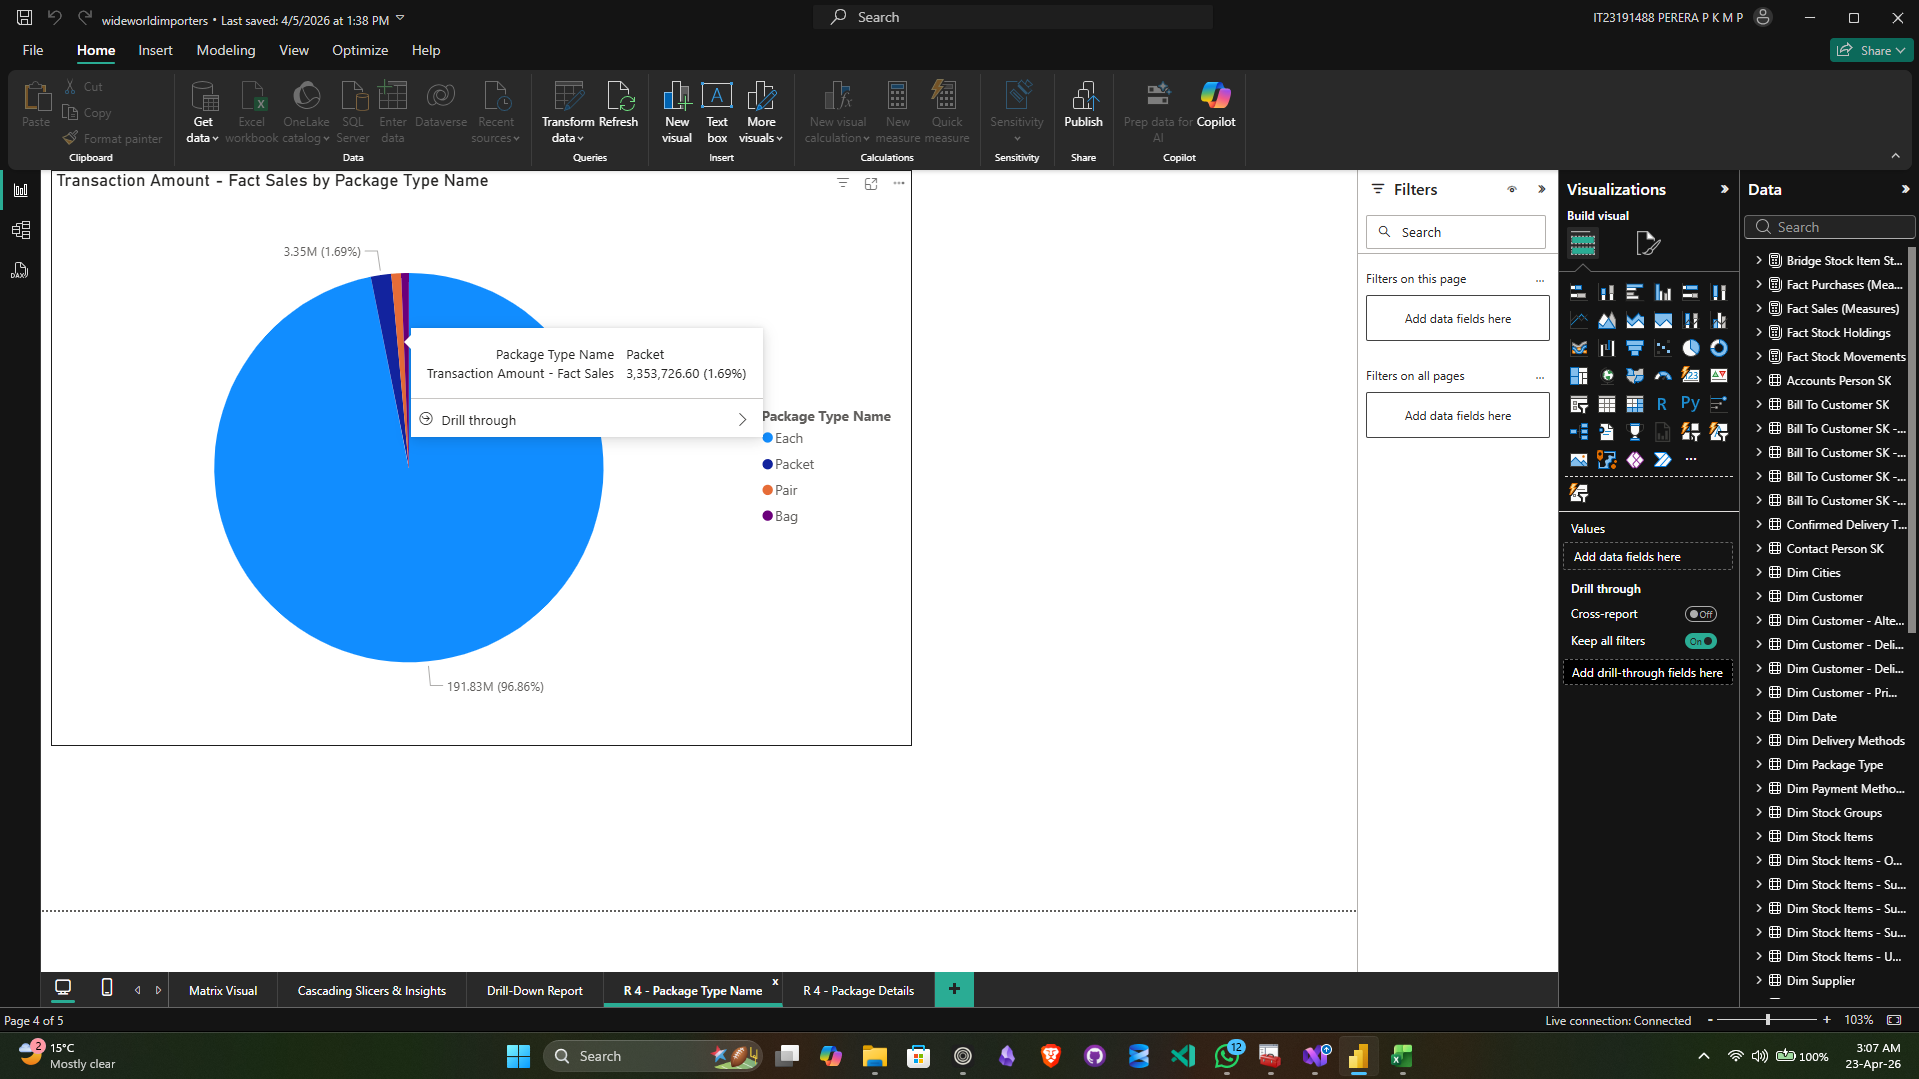

The page's visual inventory and layout, read from the dashboard file:
{"tool":"powerbi","page":{"name":"R 4 - Package Type Name","canvas":[1280,720],"ordinal":3},"visuals":[{"type":"pieChart","fields":{"Y":["Fact Sales (Measures).Transaction Amount - Fact Sales"],"Category":["Dim Package Type.Package Type Name"]},"box":[10,0,837.1,560],"z":0}]}

Visuals, with their boxes on the page's 1280x720 design canvas (x1, y1, x2, y2). These are canvas units, not pixel positions in the 1919x1079 screenshot, which may show the page scaled, cropped or inside an application window:
pieChart - Fact Sales (Measures).Transaction Amount - Fact Sales x Dim Package Type.Package Type Name: (x1=10, y1=0, x2=847, y2=560)
